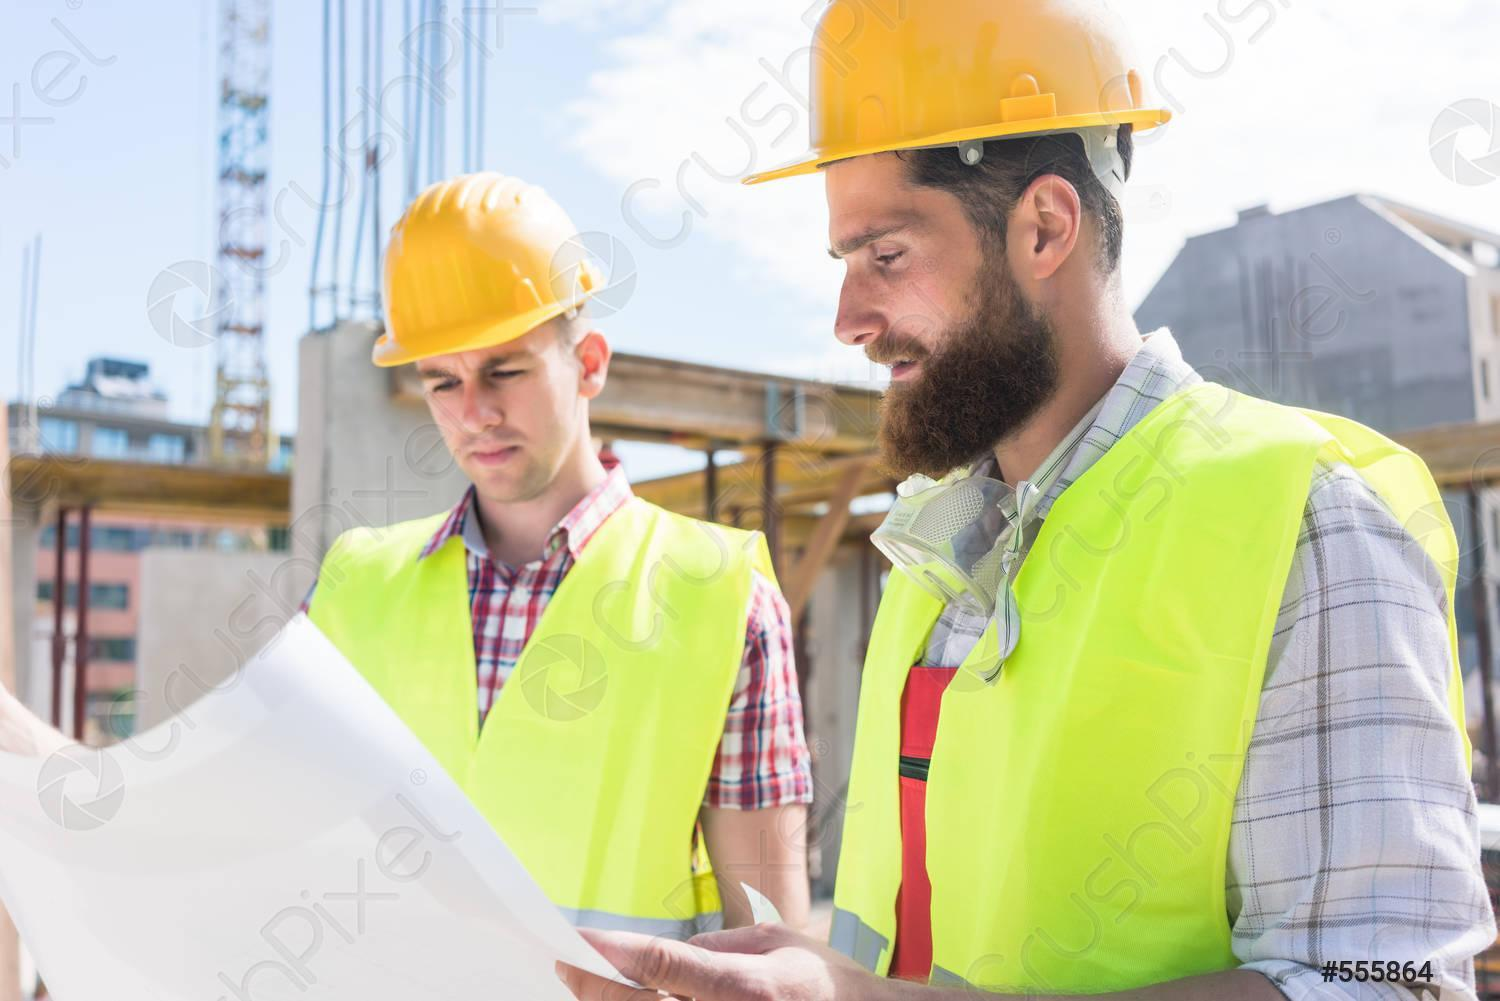hardhat: (747, 1, 1173, 179), (365, 180, 601, 368)
worker: (744, 2, 1491, 999), (162, 172, 814, 1000)
